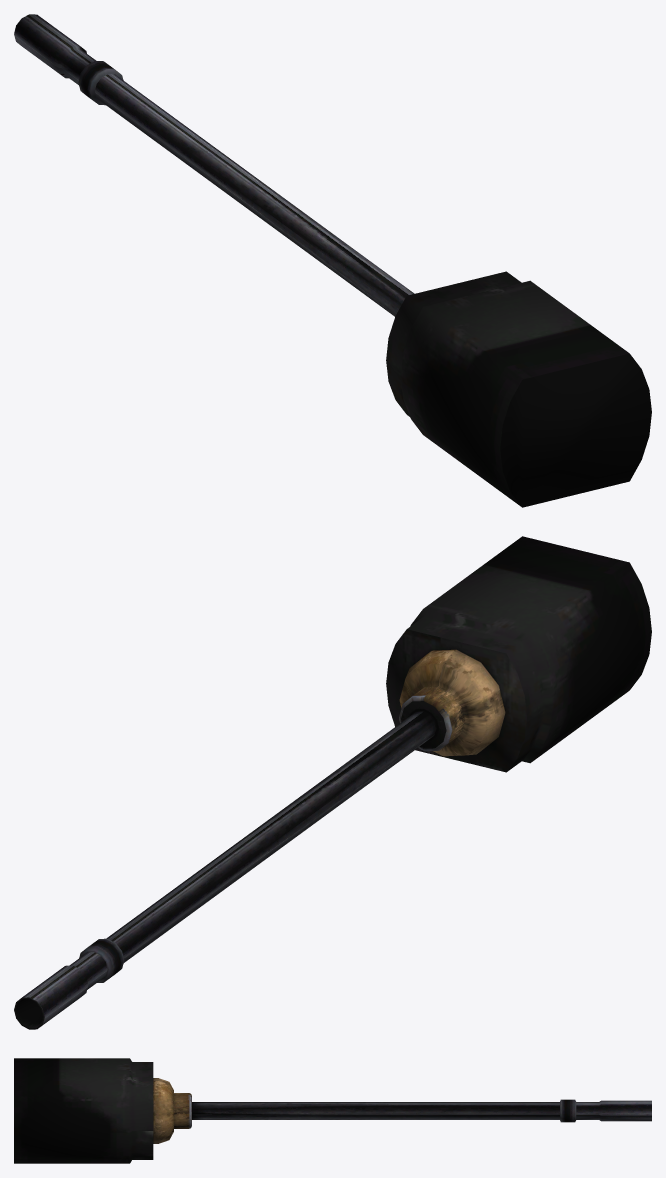
The model's file is APC_cannon.obj.
3 renders of one model, top to bottom at view 1: azimuth 30°, elevation 25°; view 2: azimuth 150°, elevation 25°; view 3: azimuth 270°, elevation 25°, orthographic. The views are drawn at different scales.
Visible parts, largest first — view 1: cannon01; view 2: cannon01; view 3: cannon01.
Part boxes in pixels (x1,y1,x2,y2): cannon01: [14, 14, 651, 507]; cannon01: [14, 536, 651, 1029]; cannon01: [14, 1058, 651, 1163].
Bounding box in the file's own units: 0.7838 × 0.632 × 4.89.
1 material, 1 textured.
